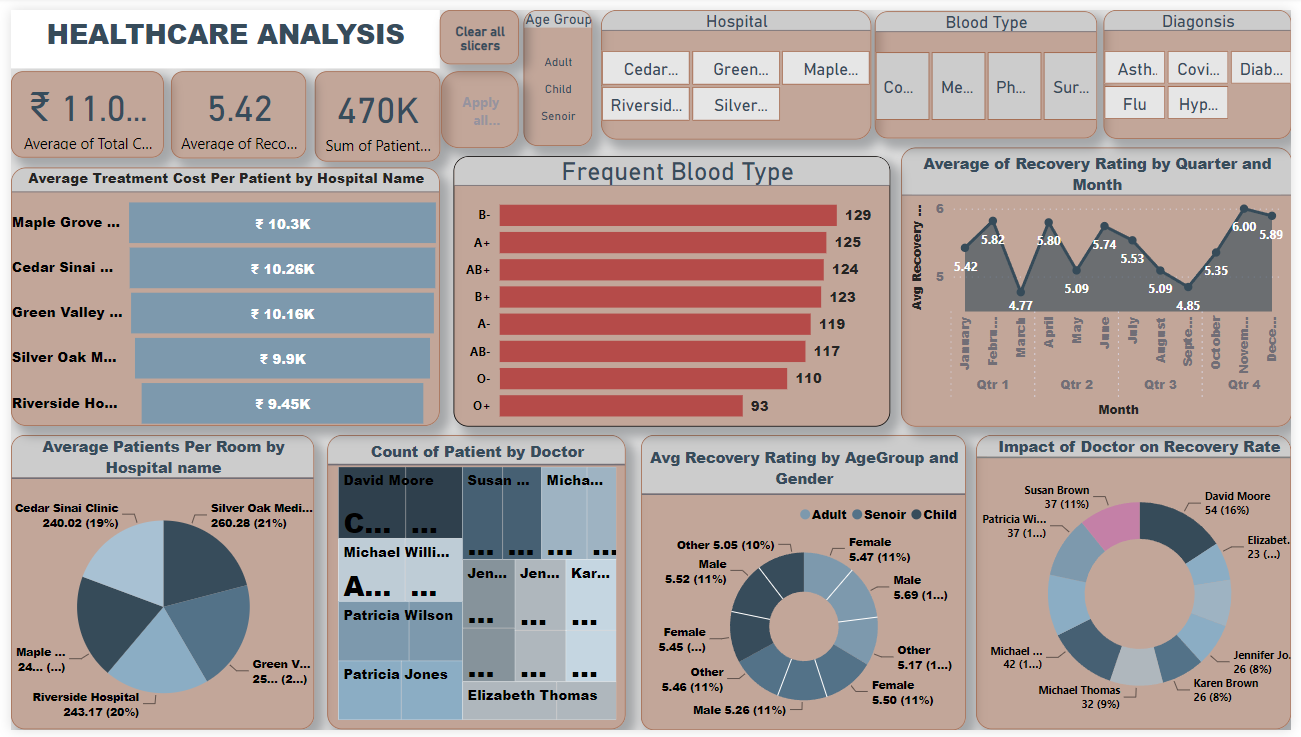

The dashboard page shown, as its layout file describes it:
{"tool":"powerbi","page":{"name":"Report2","canvas":[1280,720],"ordinal":1},"visuals":[{"type":"pieChart","title":"Average Patients Per Room by Hospital name","fields":{"Category":["Patient_Medical_Records.Hospitalname"],"Y":["Patient_Medical_Records.RoomNumber"]},"box":[0,425,303.3,294.7],"z":0},{"type":"treemap","title":"Count of Patient by Doctor","fields":{"Group":["Patient_Medical_Records.DoctorName"],"Values":["Patient_Medical_Records.PatientID","Patient_Medical_Records.Recovery Rating"]},"box":[316.7,425,298.4,294.7],"z":1000},{"type":"donutChart","fields":{"Category":["Patient_Medical_Records.AgeGroup"],"Series":["Patient_Medical_Records.Gender"],"Y":["Patient_Medical_Records.AvgRecoveryRating"]},"box":[629.6,425,316.7,294.7],"z":2000},{"type":"donutChart","title":"Impact of Doctor on Recovery Rate","fields":{"Category":["Patient_Medical_Records.DoctorName"],"Y":["Patient_Medical_Records.Recovery Rating"]},"box":[965.1,425.2,314.9,294.3],"z":3000},{"type":"areaChart","fields":{"Category":["Patient_Medical_Records.AdmissionDate.Variation.Date Hierarchy.Quarter","Patient_Medical_Records.AdmissionDate.Variation.Date Hierarchy.Month"],"Y":["Patient_Medical_Records.Recovery Rating"]},"box":[898.8,149.8,381.2,266.7],"z":4000},{"type":"card","fields":{"Values":["Patient_Medical_Records.TotalCost"]},"box":[0,61.3,152.7,86.2],"z":5000},{"type":"card","fields":{"Values":["Patient_Medical_Records.PatientID"]},"box":[303.3,60.9,125.4,90.1],"z":6000},{"type":"card","fields":{"Values":["Patient_Medical_Records.Recovery Rating"]},"box":[160,61.3,135.1,87.3],"z":7000},{"type":"advancedSlicerVisual","title":"Age Group","fields":{"Values":["Patient_Medical_Records.AgeGroup"]},"box":[517.6,1.2,58.5,136.4],"z":8000},{"type":"advancedSlicerVisual","title":"Hospital","fields":{"Values":["Patient_Medical_Records.Hospitalname"]},"box":[576.1,0,270.4,136.4],"z":9000},{"type":"advancedSlicerVisual","title":"Blood Type","fields":{"Values":["Patient_Medical_Records.TreatmentType"]},"box":[857.4,1.2,225.3,135.2],"z":10000},{"type":"advancedSlicerVisual","title":"Diagonsis","fields":{"Values":["Patient_Medical_Records.Diagnosis"]},"box":[1092.4,0,187.6,136.4],"z":11000},{"type":"textbox","box":[0,0,429.1,58.2],"z":12000},{"type":"actionButton","box":[429.9,4.9,87.7,64.5],"z":13000},{"type":"funnel","title":"Average Treatment Cost Per Patient by Hospital Name","fields":{"Category":["Patient_Medical_Records.Hospitalname"],"Y":["Patient_Medical_Records.AvgTreatmentCostPerPatient"]},"box":[0,156.9,429.1,258.7],"z":14000},{"type":"actionButton","box":[429.9,71.9,87.7,65.8],"z":15000},{"type":"clusteredBarChart","title":"Frequent Blood Type","fields":{"Category":["Patient_Medical_Records.BloodType"],"Y":["Patient_Medical_Records.BloodType"]},"box":[443.1,153.5,437.3,259.2],"z":16000}]}

Visuals, with their boxes in screenshot pixels (x1, y1, x2, y2), scaled from the page's 1280x720 canvas onto the 1301x737 screenshot:
"Average Patients Per Room by Hospital name" pieChart: {"x1": 0, "y1": 435, "x2": 308, "y2": 736}
"Count of Patient by Doctor" treemap: {"x1": 322, "y1": 435, "x2": 625, "y2": 736}
donutChart - Patient_Medical_Records.AgeGroup x Patient_Medical_Records.Gender: {"x1": 640, "y1": 435, "x2": 962, "y2": 736}
"Impact of Doctor on Recovery Rate" donutChart: {"x1": 981, "y1": 435, "x2": 1300, "y2": 736}
areaChart - Patient_Medical_Records.AdmissionDate.Variation.Date Hierarchy.Quarter x Patient_Medical_Records.AdmissionDate.Variation.Date Hierarchy.Month: {"x1": 914, "y1": 153, "x2": 1300, "y2": 426}
card - Patient_Medical_Records.TotalCost: {"x1": 0, "y1": 63, "x2": 155, "y2": 151}
card - Patient_Medical_Records.PatientID: {"x1": 308, "y1": 62, "x2": 436, "y2": 155}
card - Patient_Medical_Records.Recovery Rating: {"x1": 163, "y1": 63, "x2": 300, "y2": 152}
"Age Group" advancedSlicerVisual: {"x1": 526, "y1": 1, "x2": 586, "y2": 141}
"Hospital" advancedSlicerVisual: {"x1": 586, "y1": 0, "x2": 860, "y2": 140}
"Blood Type" advancedSlicerVisual: {"x1": 871, "y1": 1, "x2": 1100, "y2": 140}
"Diagonsis" advancedSlicerVisual: {"x1": 1110, "y1": 0, "x2": 1300, "y2": 140}
textbox: {"x1": 0, "y1": 0, "x2": 436, "y2": 60}
actionButton: {"x1": 437, "y1": 5, "x2": 526, "y2": 71}
"Average Treatment Cost Per Patient by Hospital Name" funnel: {"x1": 0, "y1": 161, "x2": 436, "y2": 425}
actionButton: {"x1": 437, "y1": 74, "x2": 526, "y2": 141}
"Frequent Blood Type" clusteredBarChart: {"x1": 450, "y1": 157, "x2": 895, "y2": 422}
